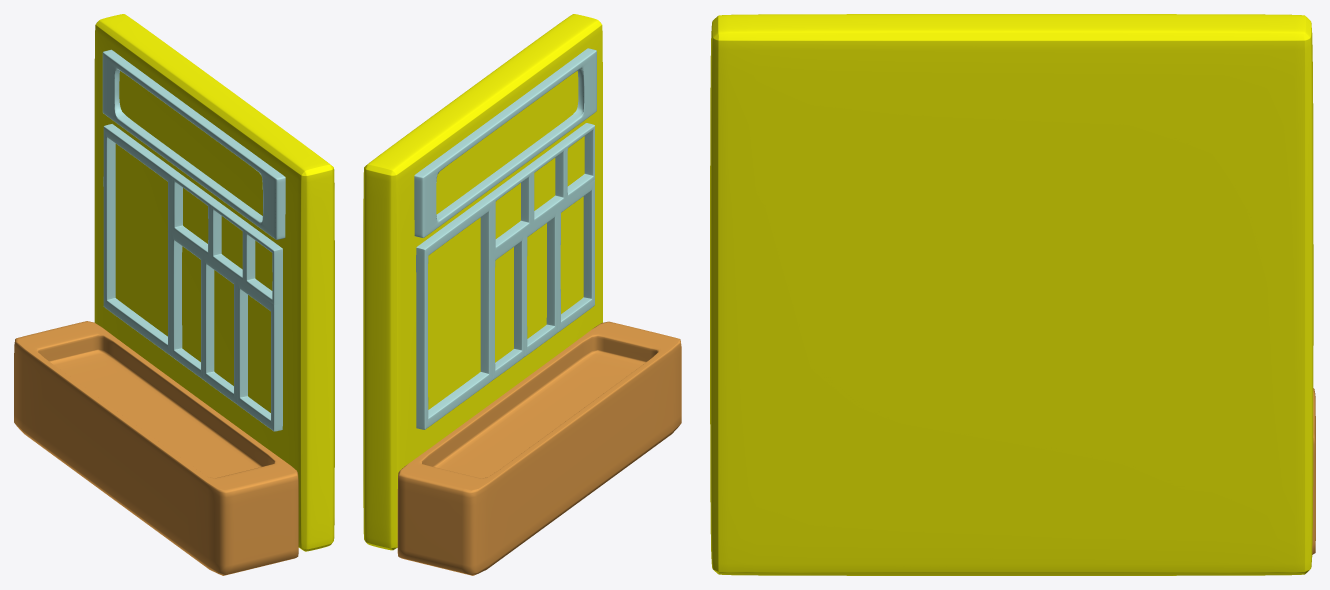
The picture shows the model from 3 angles, left to right: view 1: azimuth 30°, elevation 25°; view 2: azimuth 150°, elevation 25°; view 3: azimuth 270°, elevation 25°; orthographic projection. The views are drawn at different scales.
Visible parts, largest first — view 1: polySurface1199; view 2: polySurface1199; view 3: polySurface1199.
Part boxes in pixels (bbox=[...]): polySurface1199: bbox=[14, 14, 334, 575]; polySurface1199: bbox=[363, 14, 681, 575]; polySurface1199: bbox=[710, 14, 1315, 575].
Size of the model in its own units: 0.3183 by 1.01 by 1.
